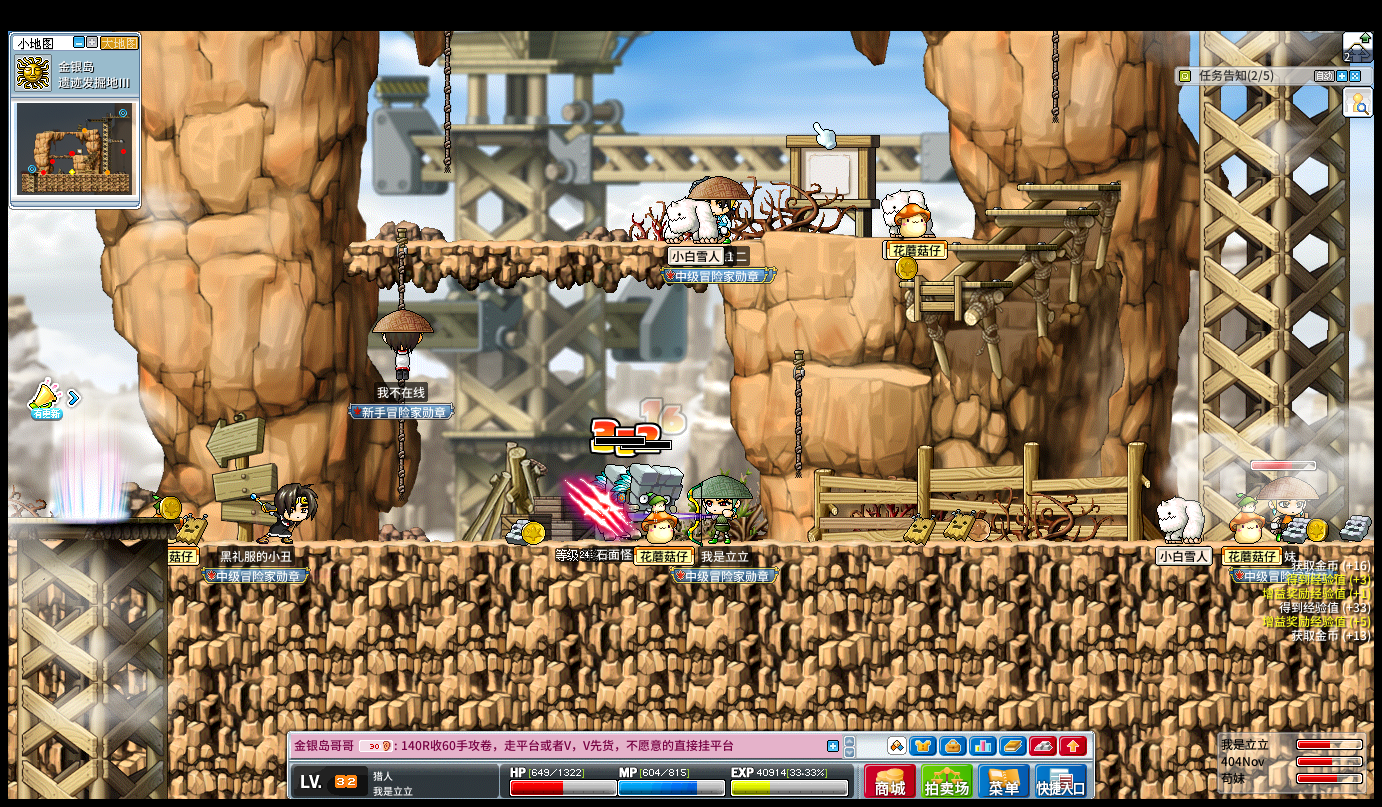floor: (347, 239, 720, 249), (824, 364, 932, 386), (10, 515, 181, 525), (893, 279, 1011, 289), (983, 207, 1093, 215), (1016, 184, 1121, 192), (948, 243, 1055, 250)
monster: (618, 463, 683, 505)
rope: (791, 350, 805, 482), (440, 30, 452, 174), (1050, 30, 1062, 121), (395, 416, 406, 504), (1049, 29, 1059, 120), (395, 226, 405, 309)
